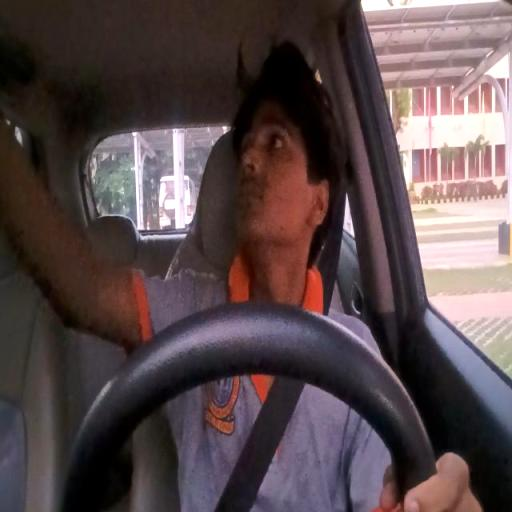Hair Mirror: (43, 40, 450, 511)
